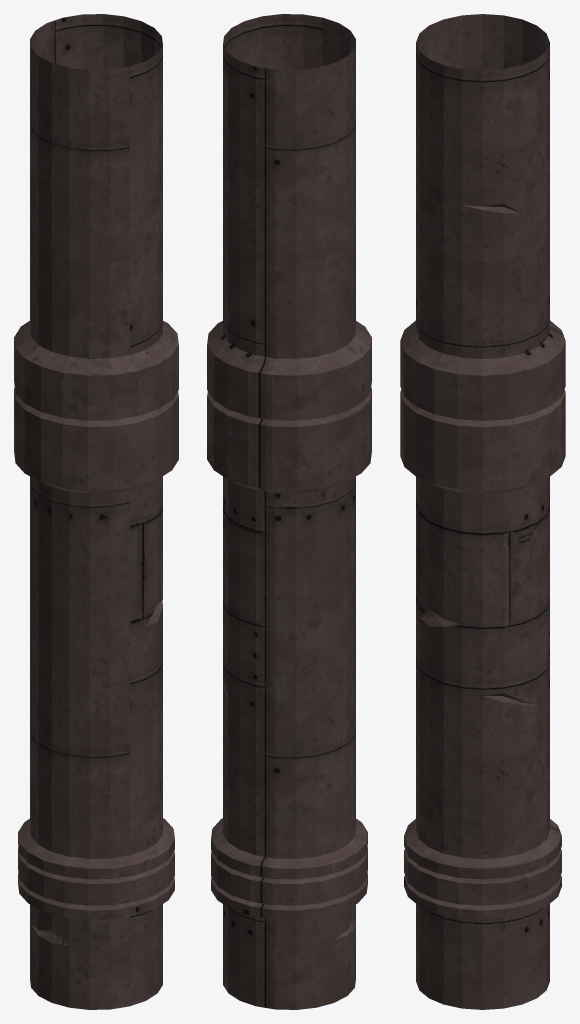
The model's file is Pipe02.fbx.
3 renders of one model, left to right at view 1: azimuth 30°, elevation 25°; view 2: azimuth 150°, elevation 25°; view 3: azimuth 270°, elevation 25°, orthographic.
Parts seen in each view (by area): view 1: SM_ENV_STRUCT_ScrapYard_Pipe_02.mo; view 2: SM_ENV_STRUCT_ScrapYard_Pipe_02.mo; view 3: SM_ENV_STRUCT_ScrapYard_Pipe_02.mo.
Part boxes in pixels (x1=…): SM_ENV_STRUCT_ScrapYard_Pipe_02.mo: x1=14, y1=14, x2=178, y2=1009; SM_ENV_STRUCT_ScrapYard_Pipe_02.mo: x1=207, y1=14, x2=371, y2=1009; SM_ENV_STRUCT_ScrapYard_Pipe_02.mo: x1=400, y1=14, x2=565, y2=1009.
Size of the model in its own units: 79.85 by 500 by 79.85.
1 material, 1 textured.
